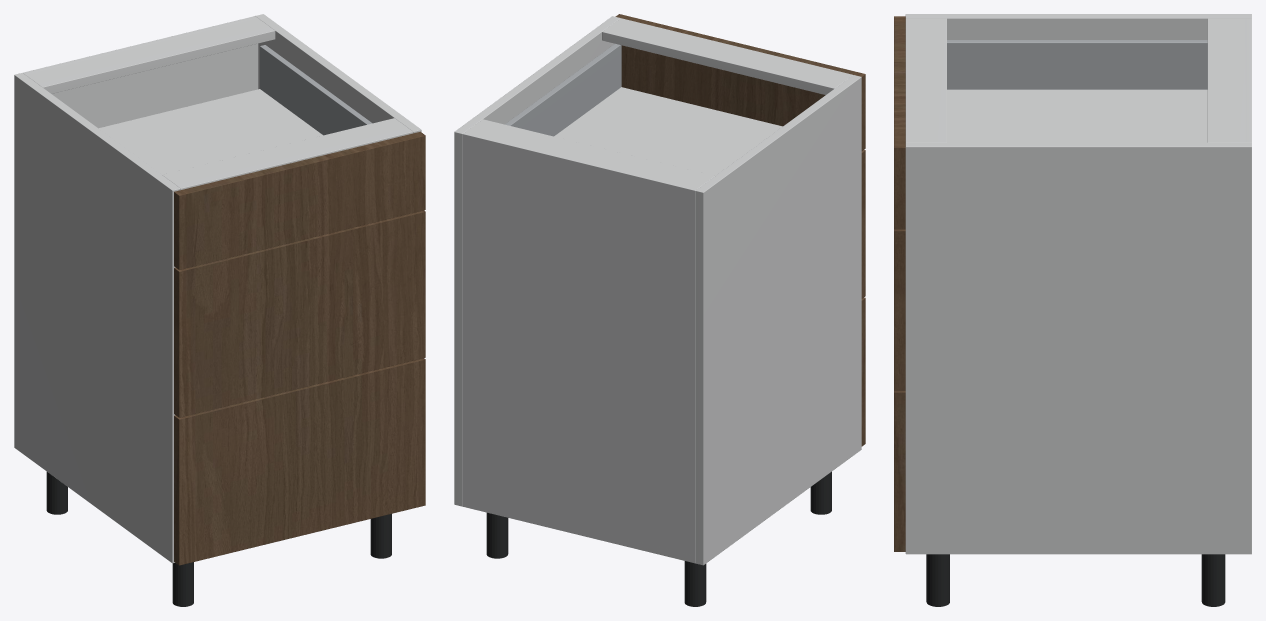
File: oppein-ply-mso-3db21.glb
3 views of the same model, side by side, from view 1: azimuth 30°, elevation 25°; view 2: azimuth 150°, elevation 25°; view 3: azimuth 270°, elevation 25° (orthographic). The views are drawn at different scales.
Visible parts, largest first — view 1: Cabinet side, Drawer front, Drawer front.001, Drawer front.002, Drawer floor.002, Cabinet back, Top support rail, Top support rail.001, Drawer side.005, Cabinet side.001, Adjustable foot.001, Adjustable foot.003 (+1 smaller); view 2: Cabinet back, Cabinet side, Drawer floor.002, Drawer front.002, Cabinet side.001, Top support rail.001, Drawer side.005, Top support rail, Adjustable foot, Adjustable foot.002, Adjustable foot.001, Drawer front (+1 smaller); view 3: Cabinet side.001, Drawer floor.002, Drawer side.004, Cabinet side, Top support rail.001, Top support rail, Drawer front.002, Drawer front, Drawer front.001, Adjustable foot.002, Adjustable foot.003, Cabinet back.
Part boxes in pixels (x1,y1,x2,y2): Cabinet side: [14, 73, 180, 563]; Drawer front: [174, 358, 425, 565]; Drawer front.001: [174, 210, 425, 417]; Drawer front.002: [174, 131, 425, 269]; Drawer floor.002: [99, 89, 322, 174]; Cabinet back: [23, 16, 258, 128]; Top support rail: [24, 18, 275, 93]; Top support rail.001: [162, 118, 413, 189]; Drawer side.005: [260, 45, 372, 135]; Cabinet side.001: [255, 14, 421, 133]; Adjustable foot.001: [172, 562, 193, 606]; Adjustable foot.003: [370, 514, 391, 558]; Cabinet back: [462, 132, 697, 563]; Cabinet side: [695, 75, 861, 565]; Drawer floor.002: [554, 87, 782, 175]; Drawer front.002: [615, 14, 865, 150]; Cabinet side.001: [454, 16, 620, 506]; Top support rail.001: [602, 18, 852, 94]; Drawer side.005: [505, 43, 621, 136]; Top support rail: [466, 119, 714, 188]; Adjustable foot: [684, 561, 706, 606]; Adjustable foot.002: [486, 512, 508, 558]; Adjustable foot.001: [810, 471, 831, 514]; Drawer front: [861, 297, 865, 446]; Cabinet side.001: [905, 142, 1251, 554]; Drawer floor.002: [947, 89, 1207, 142]; Drawer side.004: [947, 40, 1207, 89]; Cabinet side: [905, 14, 1251, 39]; Top support rail.001: [905, 18, 946, 142]; Top support rail: [1207, 18, 1245, 142]; Drawer front.002: [894, 16, 905, 229]; Drawer front: [894, 390, 905, 551]; Drawer front.001: [894, 229, 905, 390]; Adjustable foot.002: [1201, 554, 1225, 606]; Adjustable foot.003: [926, 554, 949, 606]; Cabinet back: [1245, 18, 1251, 142].
Size of the model in its own units: 0.5334 by 0.8763 by 0.6064.
4 materials, 1 textured.
